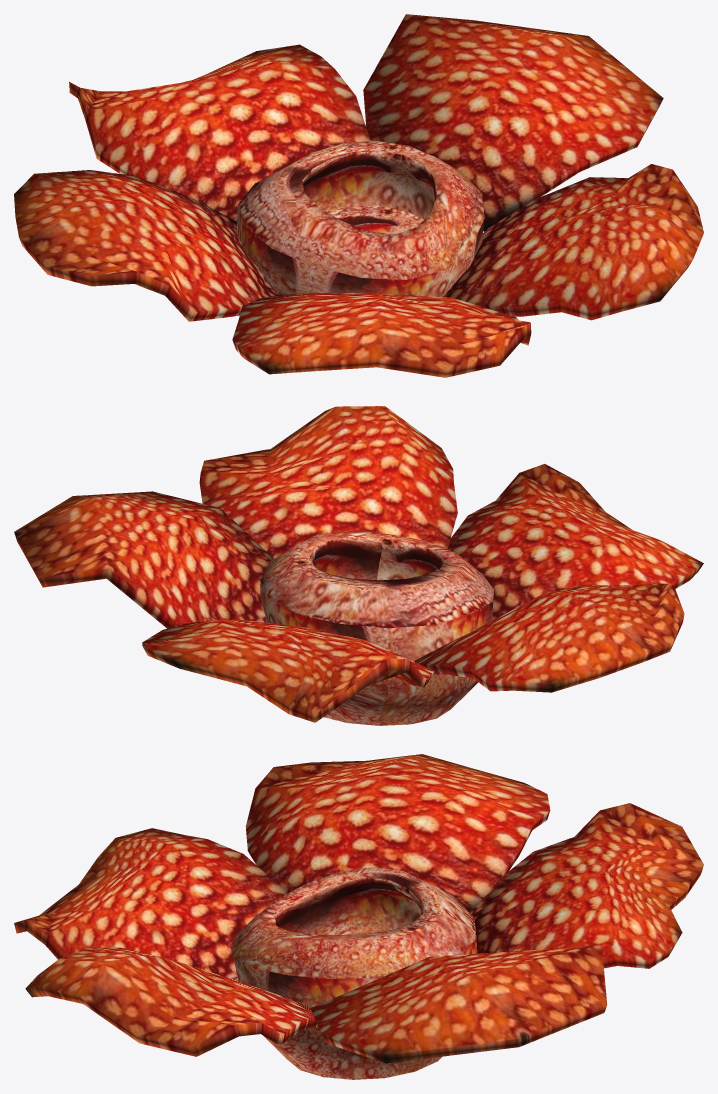
The model's file is rafflesianormalmap2.fbx.
The picture shows the model from 3 angles, top to bottom: view 1: azimuth 30°, elevation 25°; view 2: azimuth 150°, elevation 25°; view 3: azimuth 270°, elevation 25°; orthographic projection. The views are drawn at different scales.
Parts seen in each view (by area): view 1: Plane.001; view 2: Plane.001; view 3: Plane.001.
Boxes of the visible parts, x1,y1,x2,y2 form: Plane.001: (14,14,703,377); Plane.001: (14,406,703,725); Plane.001: (14,754,703,1079).
Size of the model in its own units: 53.04 by 15.79 by 51.01.
